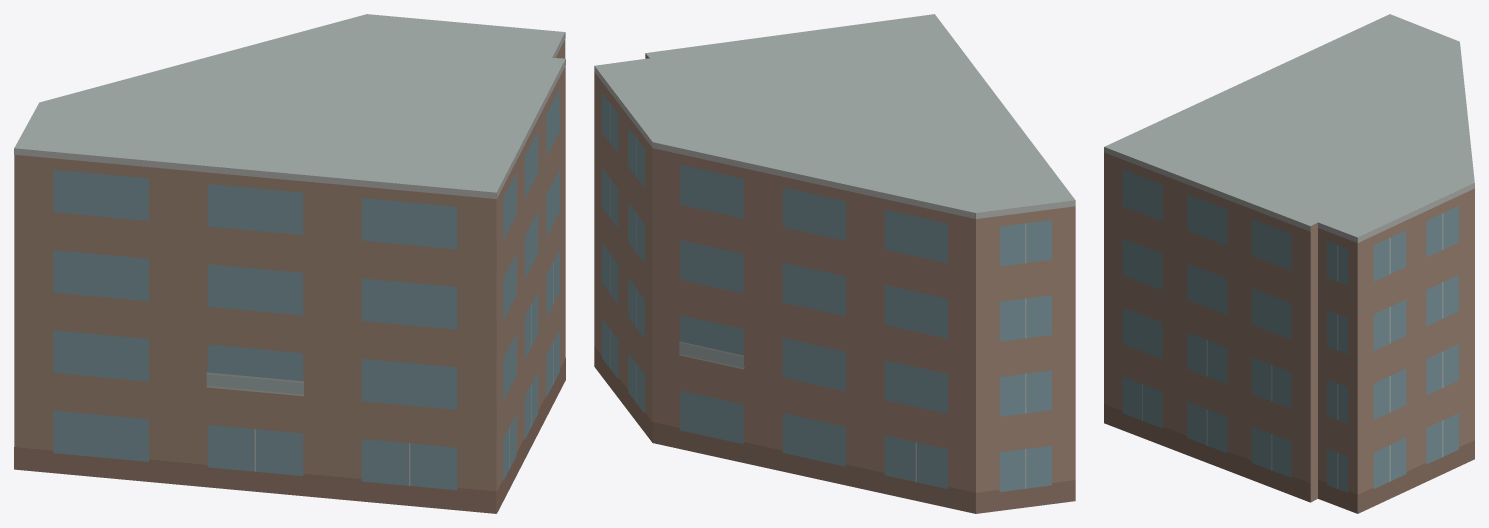
The model's file is survey-upis-32589336.glb.
3 renders of one model, left to right at view 1: azimuth 30°, elevation 25°; view 2: azimuth 150°, elevation 25°; view 3: azimuth 270°, elevation 25°, orthographic. The views are drawn at different scales.
Parts seen in each view (by area): view 1: survey-upis-32589336.tmp; view 2: survey-upis-32589336.tmp; view 3: survey-upis-32589336.tmp.
Part boxes in pixels (<box>): survey-upis-32589336.tmp: <box>14,14,565,513</box>; survey-upis-32589336.tmp: <box>594,14,1075,513</box>; survey-upis-32589336.tmp: <box>1104,14,1474,513</box>.
Bounding box in the file's own units: 21.18 × 12.2 × 14.84.
